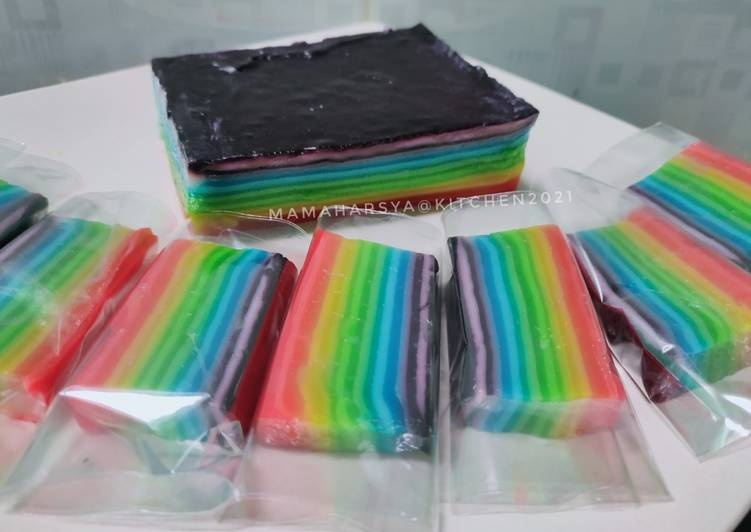kue_lapis_pelangi: (66, 237, 291, 458), (251, 228, 443, 461), (452, 223, 633, 434), (566, 205, 748, 402)
